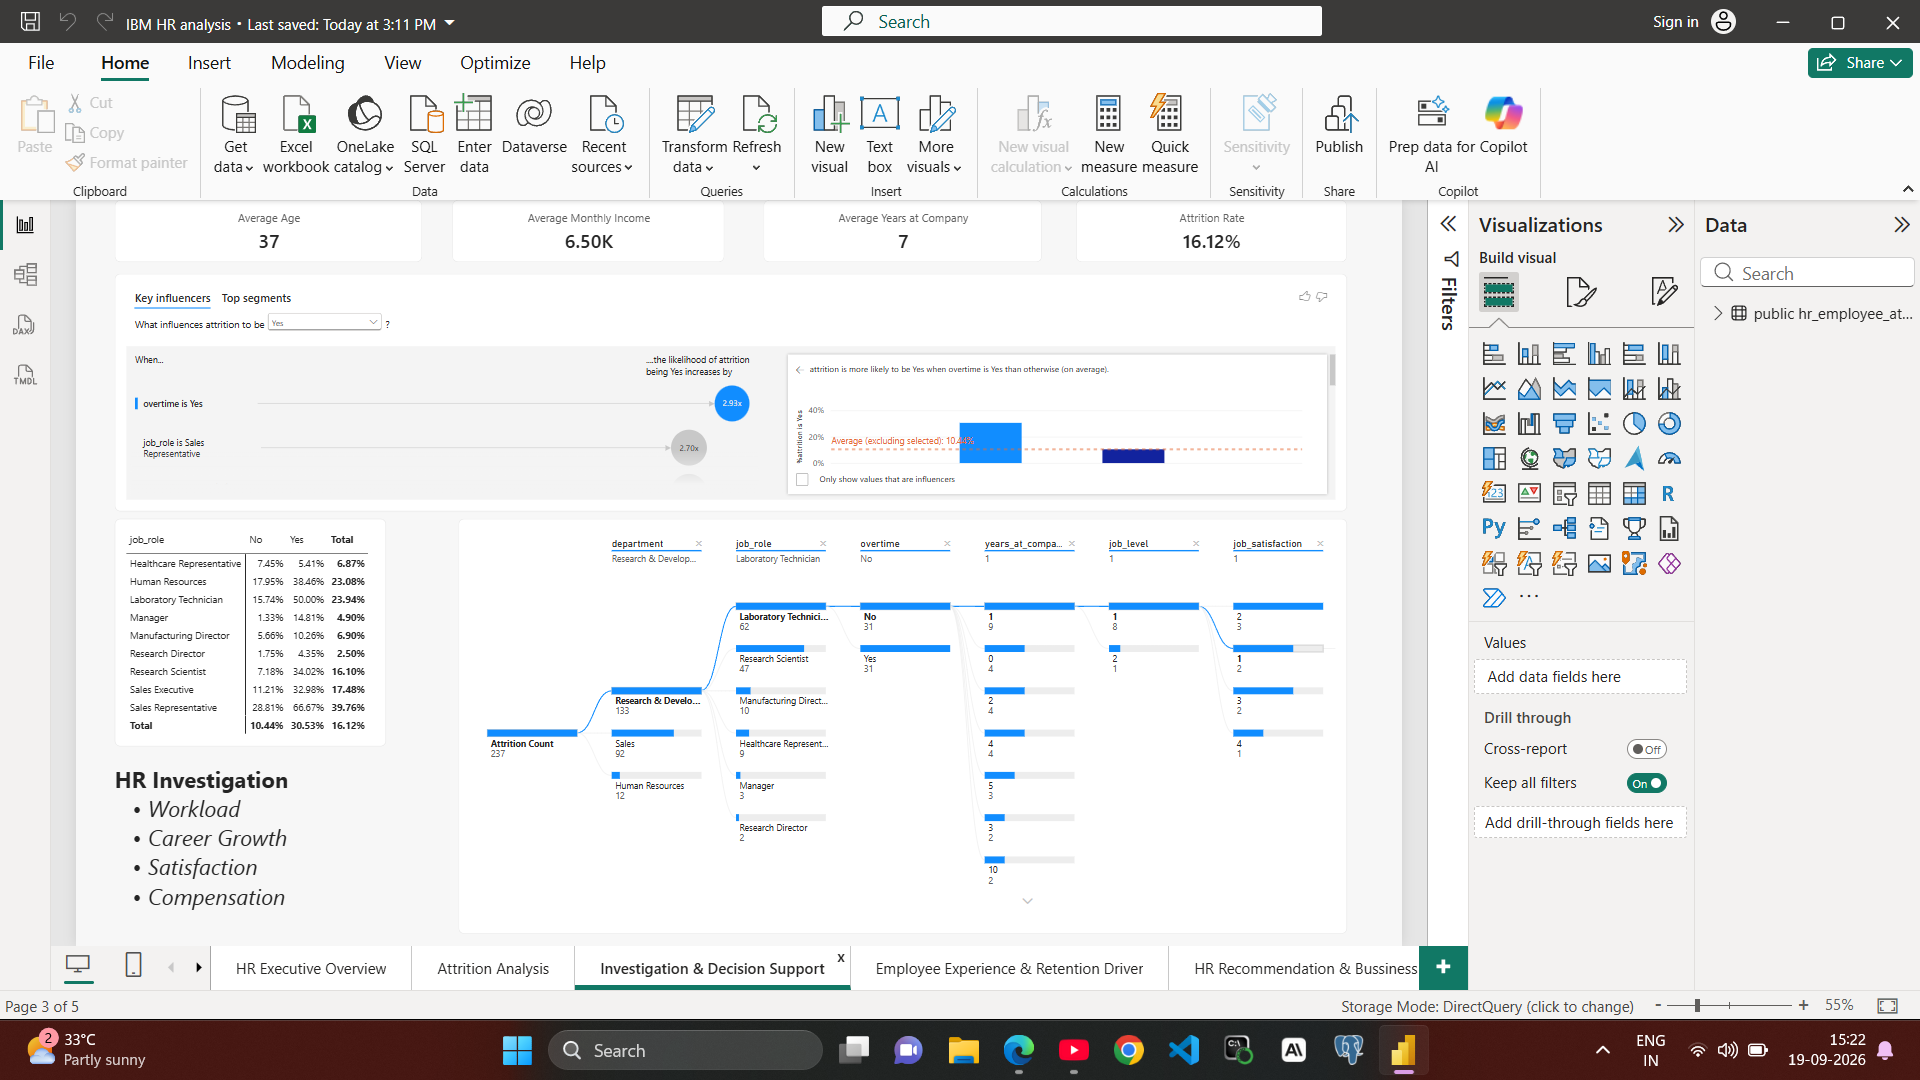

What the dashboard file says about the page in this screenshot:
{"tool":"powerbi","page":{"name":"Investigation &  Decision Support","canvas":[1920,1080],"ordinal":2},"visuals":[{"type":"cardVisual","fields":{"Data":["public hr_employee_attrition.Average Age"]},"box":[56.1,0,445.2,90.5],"z":0},{"type":"cardVisual","fields":{"Data":["public hr_employee_attrition.Average Monthly Income"]},"box":[544.7,0,394.5,90.5],"z":1},{"type":"cardVisual","fields":{"Data":["public hr_employee_attrition.Average Years at Company"]},"box":[995.3,0,403.6,90.5],"z":2},{"type":"cardVisual","fields":{"Data":["public hr_employee_attrition.Attrition Rate"]},"box":[1447.7,0,392.7,90.5],"z":3},{"type":"keyDriversVisual","fields":{"ExplainBy":["public hr_employee_attrition.job_level","public hr_employee_attrition.business_travel","public hr_employee_attrition.marital_status","public hr_employee_attrition.distance_from_home","public hr_employee_attrition.monthly_income","public hr_employee_attrition.job_role","public hr_employee_attrition.years_at_company","public hr_employee_attrition.job_involvement","public hr_employee_attrition.environment_satisfaction","public hr_employee_attrition.overtime","public hr_employee_attrition.job_satisfaction"],"Target":["public hr_employee_attrition.attrition"]},"box":[55.7,107.1,1784.3,344.3],"z":4},{"type":"decompositionTreeVisual","fields":{"Analyze":["public hr_employee_attrition.Attrition Count"],"ExplainBy":["public hr_employee_attrition.department","public hr_employee_attrition.job_role","public hr_employee_attrition.overtime","public hr_employee_attrition.years_at_company","public hr_employee_attrition.job_level","public hr_employee_attrition.job_satisfaction","public hr_employee_attrition.business_travel"]},"box":[553.8,461.5,1286.7,600.8],"z":5},{"type":"textbox","box":[56.1,816.2,392.7,264.2],"z":6},{"type":"pivotTable","fields":{"Columns":["public hr_employee_attrition.overtime"],"Rows":["public hr_employee_attrition.job_role"],"Values":["public hr_employee_attrition.Attrition Rate"]},"box":[56.1,461.5,392.7,329.4],"z":7}]}

Visuals, with their boxes on the page's 1920x1080 design canvas (x1, y1, x2, y2). These are canvas units, not pixel positions in the 1920x1080 screenshot, which may show the page scaled, cropped or inside an application window:
cardVisual - public hr_employee_attrition.Average Age: [56, 0, 501, 90]
cardVisual - public hr_employee_attrition.Average Monthly Income: [545, 0, 939, 90]
cardVisual - public hr_employee_attrition.Average Years at Company: [995, 0, 1399, 90]
cardVisual - public hr_employee_attrition.Attrition Rate: [1448, 0, 1840, 90]
keyDriversVisual - public hr_employee_attrition.job_level x public hr_employee_attrition.business_travel: [56, 107, 1840, 451]
decompositionTreeVisual - public hr_employee_attrition.Attrition Count x public hr_employee_attrition.department: [554, 462, 1840, 1062]
textbox: [56, 816, 449, 1080]
pivotTable - public hr_employee_attrition.overtime x public hr_employee_attrition.job_role: [56, 462, 449, 791]
